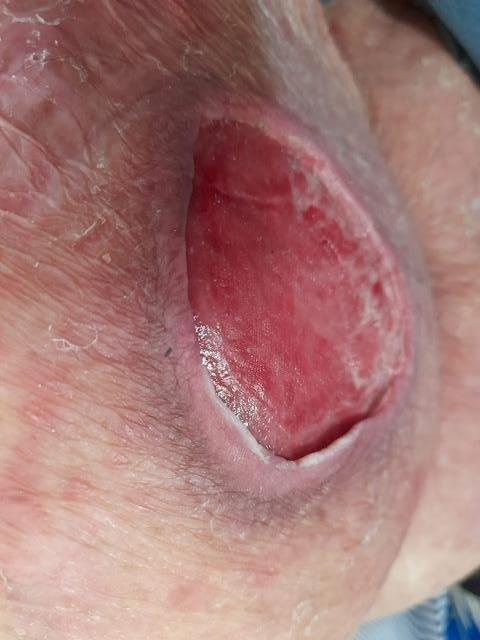wound: (184, 110, 405, 462)
